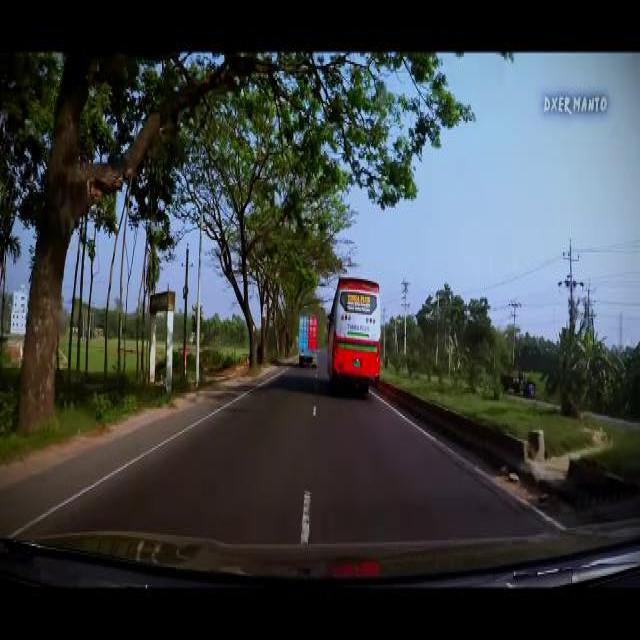bus: (325, 274, 380, 386)
truck: (297, 311, 316, 363)
